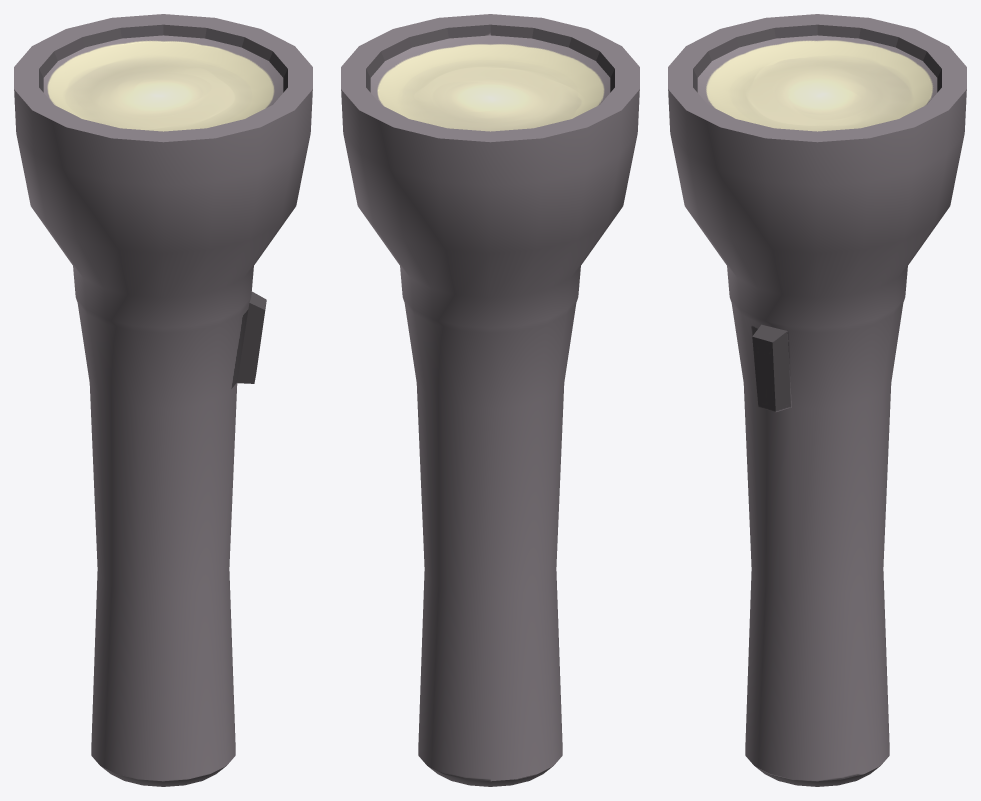
The model's file is FLASHLIGHT.fbx.
The picture shows the model from 3 angles, left to right: view 1: azimuth 30°, elevation 25°; view 2: azimuth 150°, elevation 25°; view 3: azimuth 270°, elevation 25°; orthographic projection.
Parts seen in each view (by area): view 1: Cylinder001; view 2: Cylinder001; view 3: Cylinder001.
Boxes of the visible parts, x1=… form: Cylinder001: x1=14, y1=14, x2=312, y2=786; Cylinder001: x1=341, y1=14, x2=639, y2=786; Cylinder001: x1=668, y1=14, x2=966, y2=786.
Bounding box in the file's own units: 2.95 × 7.32 × 2.9.
1 material, 1 textured.
